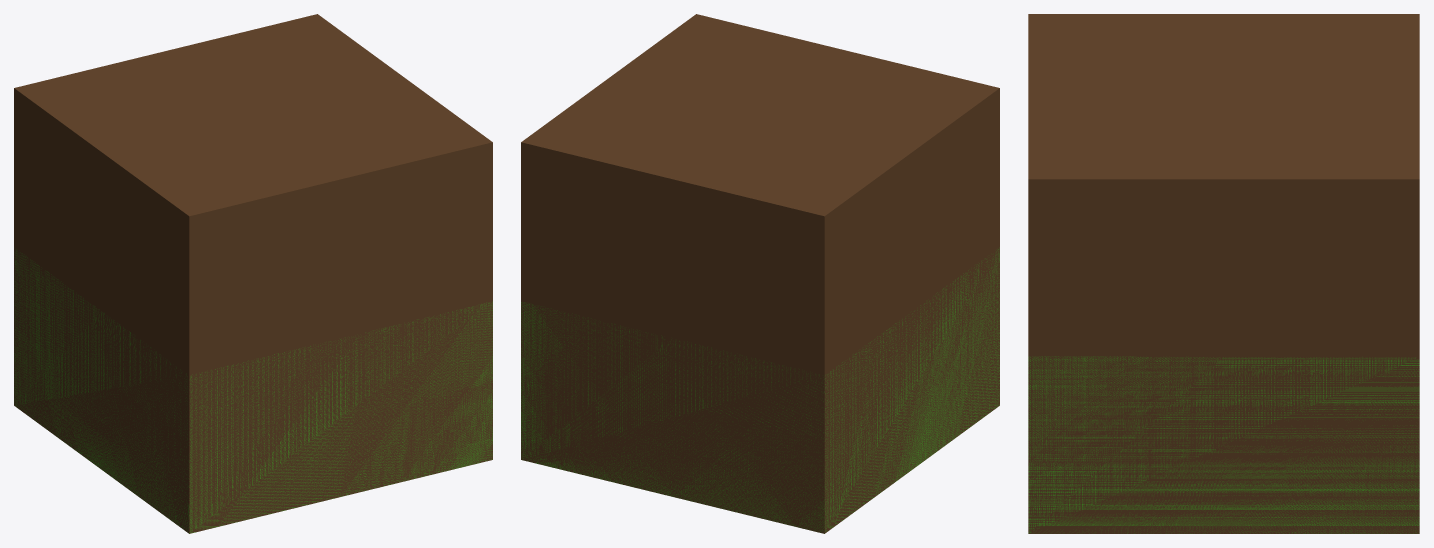
3 renders of one model, left to right at view 1: azimuth 30°, elevation 25°; view 2: azimuth 150°, elevation 25°; view 3: azimuth 270°, elevation 25°, orthographic. The views are drawn at different scales.
Parts seen in each view (by area): view 1: dirt_floor_light, grass_light; view 2: dirt_floor_light, grass_light; view 3: dirt_floor_light, grass_light.
Boxes of the visible parts, <box> form: dirt_floor_light: <box>14,14,492,533</box>; grass_light: <box>14,249,492,533</box>; dirt_floor_light: <box>521,14,999,533</box>; grass_light: <box>521,247,999,533</box>; dirt_floor_light: <box>1028,14,1419,533</box>; grass_light: <box>1028,356,1419,533</box>.
Size of the model in its own units: 1 by 1 by 1.
Materials: 6 (6 with a texture image).
